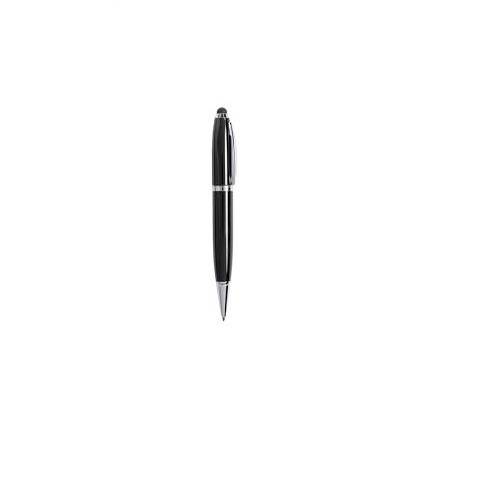Boligrafo: (208, 104, 242, 327)
